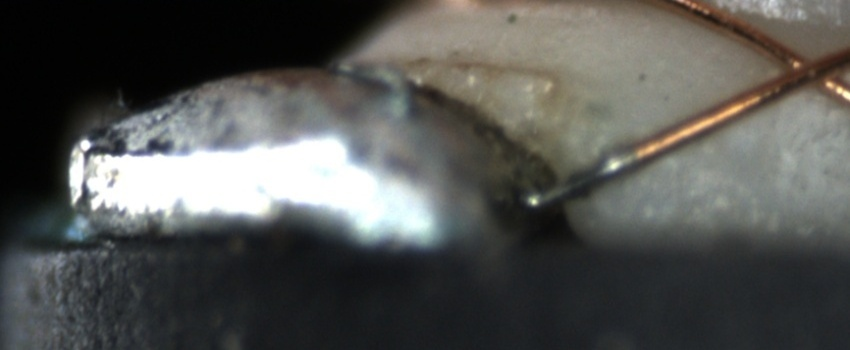CL: (763, 37, 848, 101)
TS: (532, 150, 641, 209)
TTCW: (523, 128, 679, 208)
